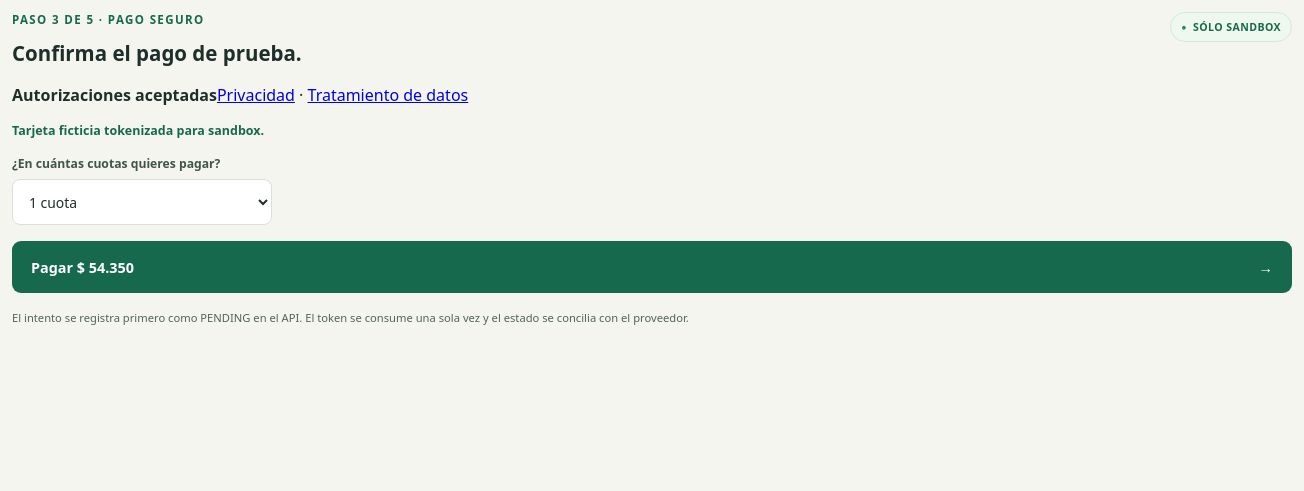
Test: PaymentPanel › submits the in-memory sandbox token, consent values, and installments
The image size is (1304, 491).
Expected: the text "Tarjeta ficticia tokenizada para sandbox." is shown, x1=12 y1=122 x2=264 y2=139
Select "3 cuotas" in the dropdown labelled "¿En cuántas cuotas quieres pagar?": (142, 202) x1=12 y1=179 x2=272 y2=225
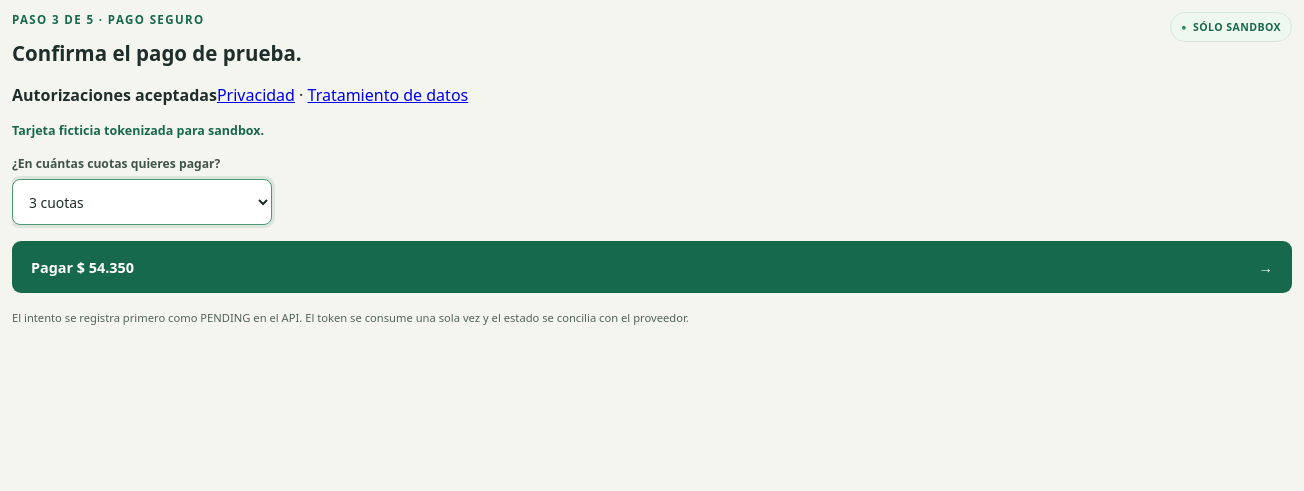
Click the button "Pagar $ 54.350 →": (83, 267) x1=12 y1=241 x2=1292 y2=293
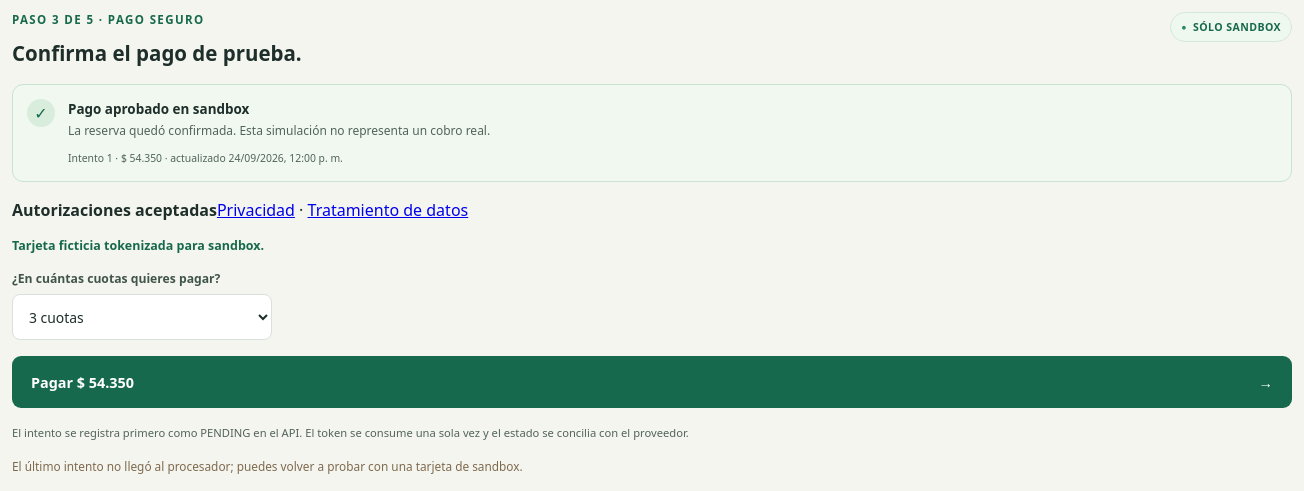
Expected: the text "Pago aprobado en sandbox" is shown, x1=68 y1=100 x2=249 y2=118
